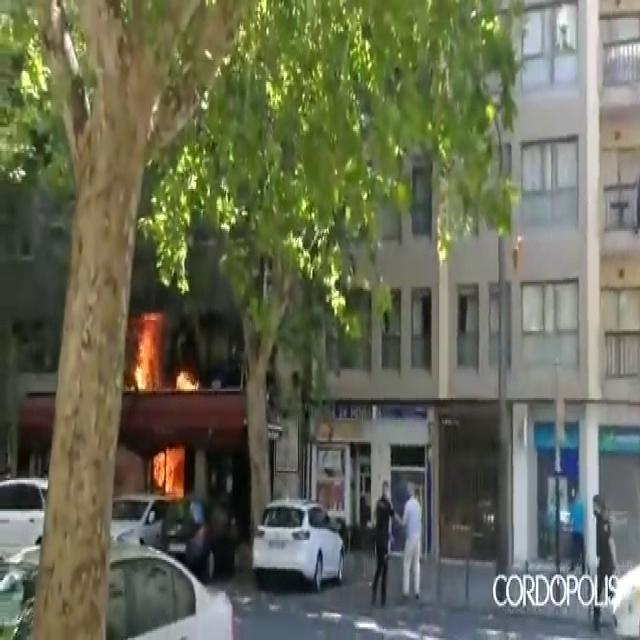Fire: (128, 308, 168, 397), (147, 436, 190, 506), (171, 360, 201, 398)
